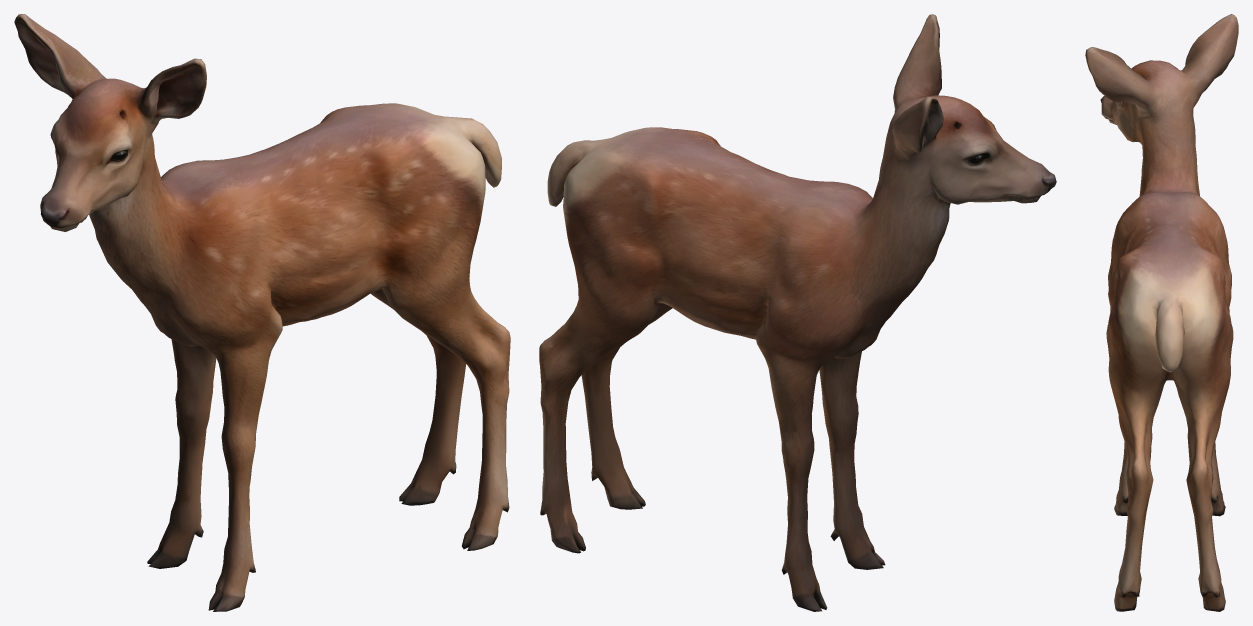
3 views of the same model, side by side, from view 1: azimuth 30°, elevation 25°; view 2: azimuth 150°, elevation 25°; view 3: azimuth 270°, elevation 25° (orthographic). The views are drawn at different scales.
Visible parts, largest first — view 1: tripo_node_188da154-4382-469e-a3ea-f43fa8c098e6; view 2: tripo_node_188da154-4382-469e-a3ea-f43fa8c098e6; view 3: tripo_node_188da154-4382-469e-a3ea-f43fa8c098e6.
Part boxes in pixels (x1,y1,x2,y2): tripo_node_188da154-4382-469e-a3ea-f43fa8c098e6: [14, 14, 510, 611]; tripo_node_188da154-4382-469e-a3ea-f43fa8c098e6: [539, 14, 1056, 611]; tripo_node_188da154-4382-469e-a3ea-f43fa8c098e6: [1085, 14, 1238, 611].
Size of the model in its own units: 0.8971 by 1 by 0.31.
Materials: 1 (1 with a texture image).
